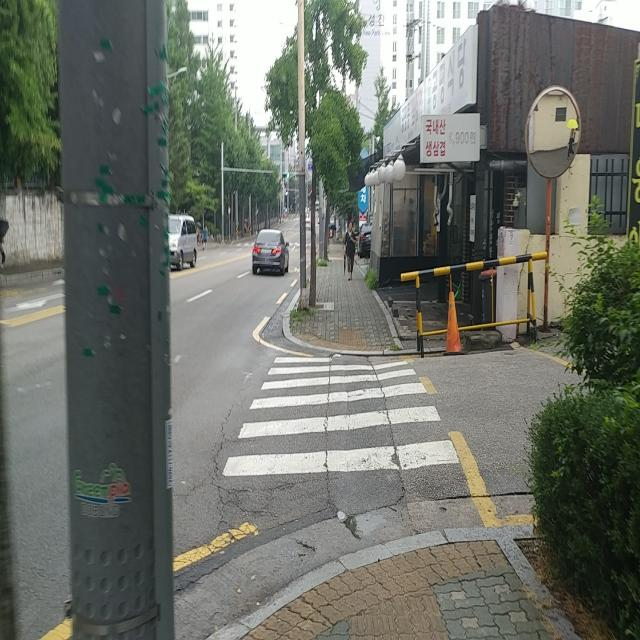횡단보도: (220, 352, 461, 482)
